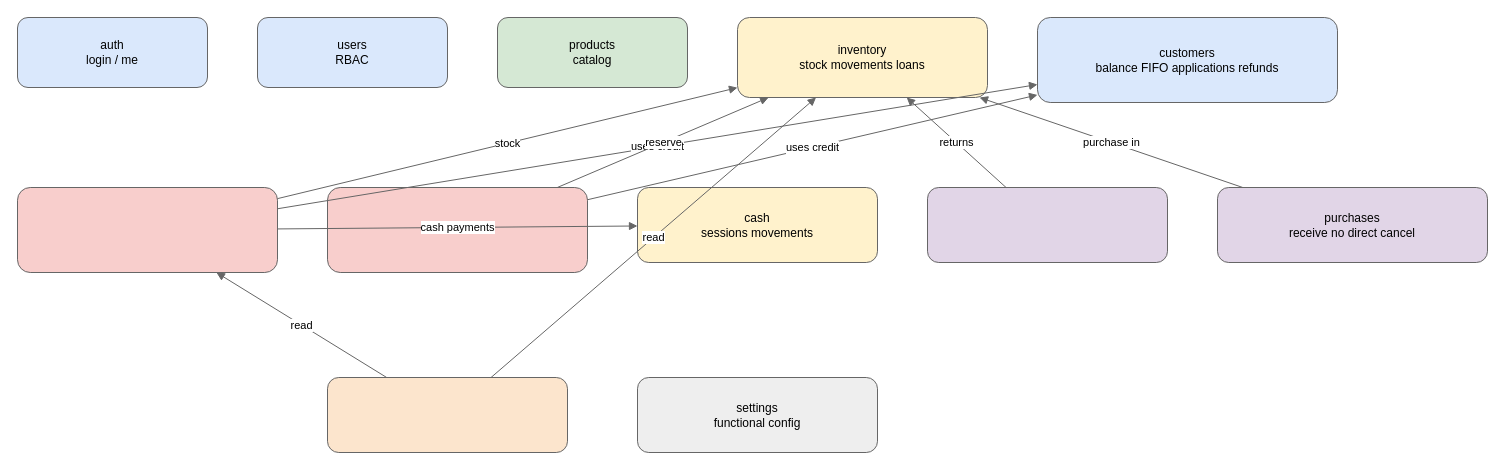
The diagram is 1505 pixels wide and 470 high, and some of its shapes have lost their labels. Each missing label, with the centre of its shape:
"layaways reserve payments complete" goes at point 457,229.
"reports profit estimated" goes at point 447,414.
"sales mixed payments void returns" goes at point 147,229.
"suppliers returns credits" goes at point 1047,224.
